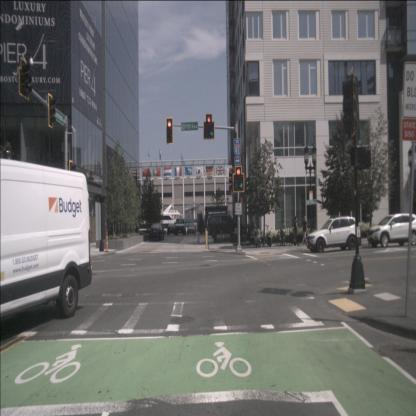human-pedestrian-adult: (301, 216, 308, 246), (294, 216, 300, 247)
movable_object-trafficcone: (104, 228, 109, 252)
vehicle-car: (1, 158, 92, 318), (306, 216, 358, 253), (367, 212, 416, 248), (207, 215, 242, 238), (150, 223, 164, 241), (175, 218, 187, 235), (167, 223, 176, 235), (187, 223, 195, 235)
vehicle-motorcycle: (276, 223, 286, 245), (254, 224, 262, 247), (266, 224, 272, 247)
